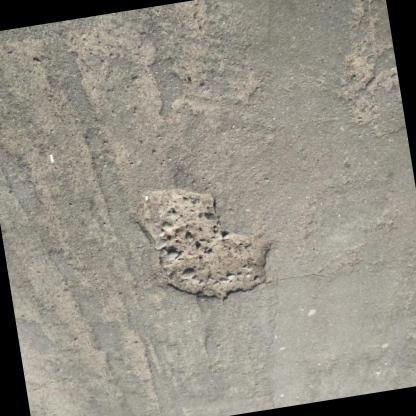pothole: (127, 168, 282, 314)
